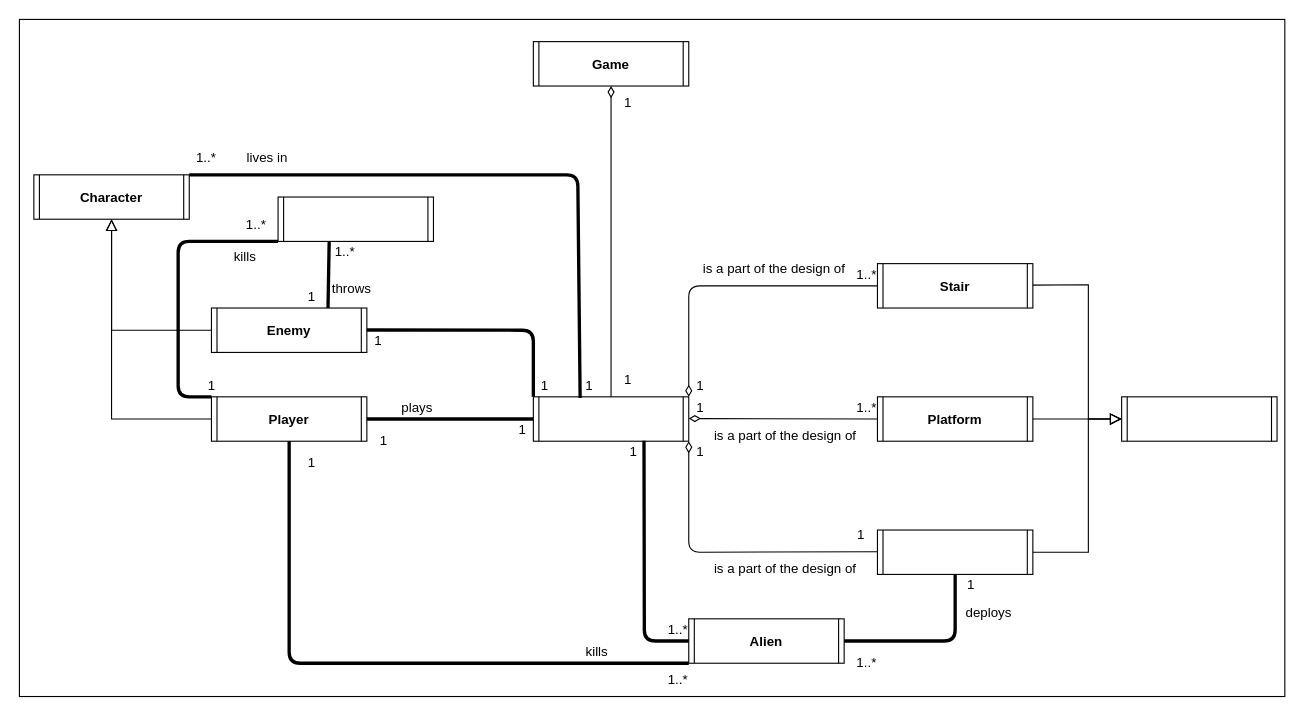
Some shapes in this 1304 by 716 pixel diagram are drawn without their labels. Here are the shapes that lost their labels. From the top down, the centre of each, then its label:
At pixel 355 218: "Rock".
At pixel 610 418: "Level".
At pixel 1199 418: "Obstacle".
At pixel 954 551: "AlienSpaceship".
